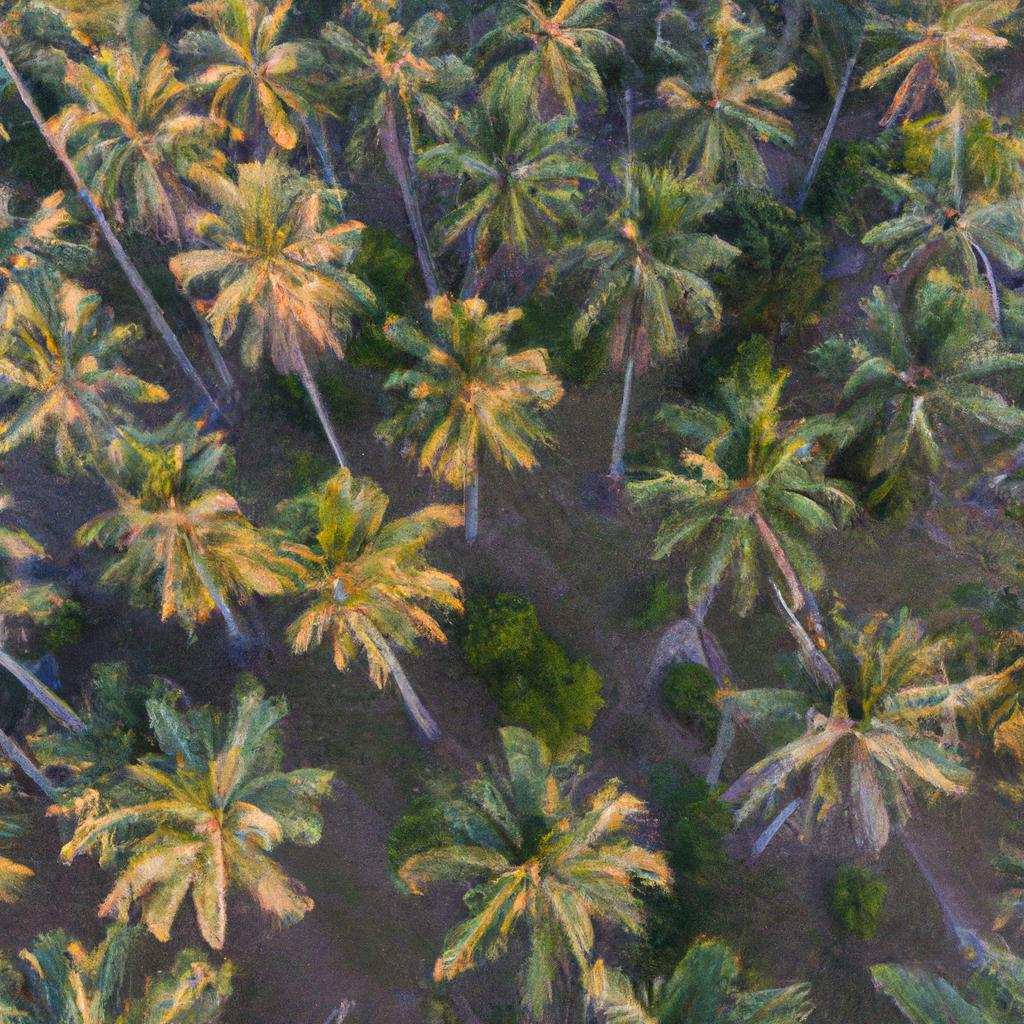coconut_tree: (380, 729, 683, 993), (91, 669, 354, 954), (615, 347, 870, 623), (719, 615, 1002, 856), (178, 159, 394, 380), (369, 280, 581, 497), (280, 469, 481, 696), (84, 420, 289, 634), (407, 62, 601, 261), (43, 39, 238, 231), (584, 156, 742, 372)
